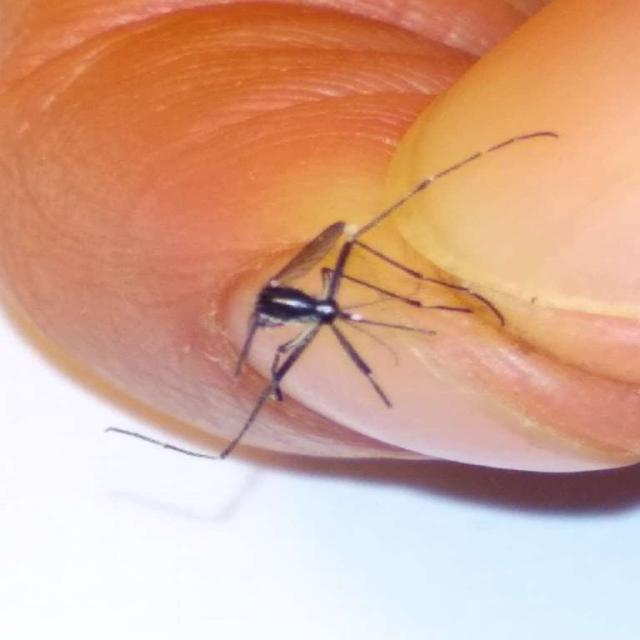albopictus: (133, 121, 532, 483)
